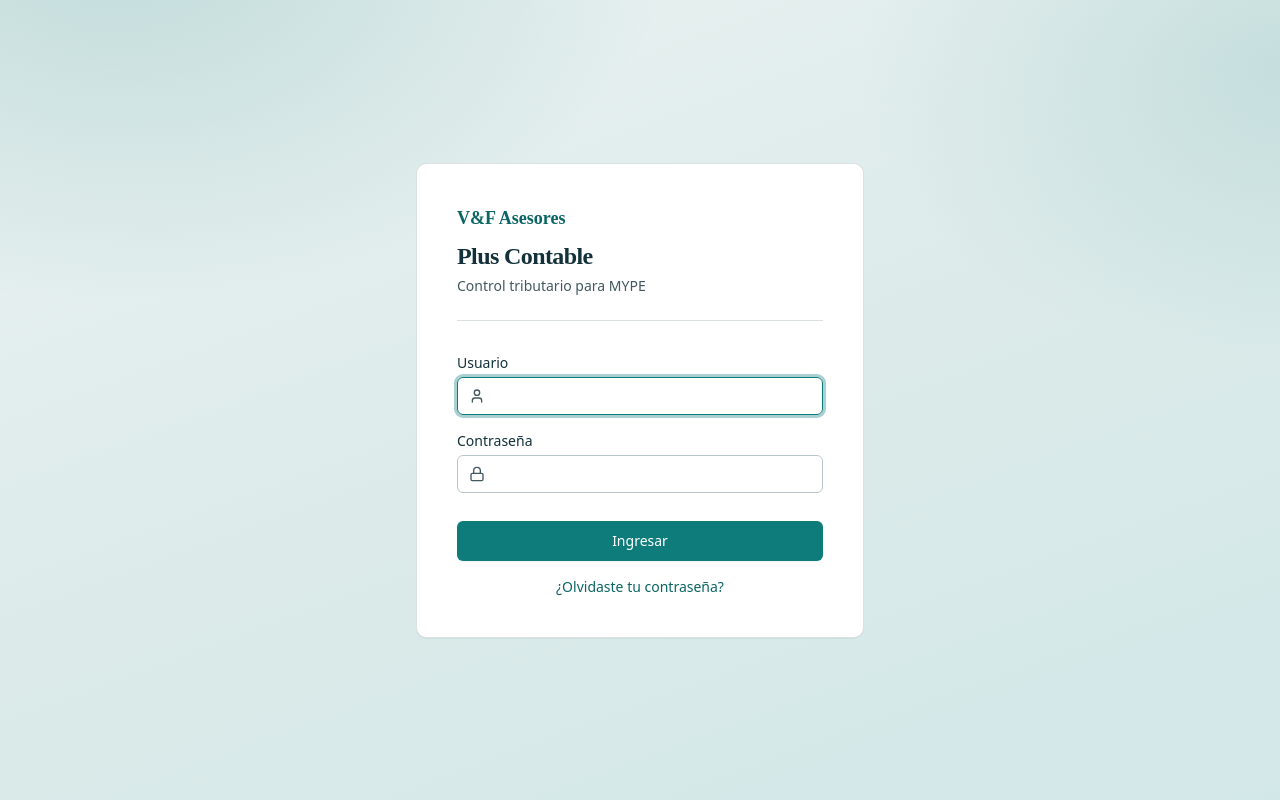
Test: HU-36: sesión y login › inicia sesión y permite entrar a una ruta protegida
This screenshot has width=1280, height=800.
Type "prueba" into the field labelled "Usuario" at (640, 396), box left=457, top=376, right=823, bottom=414
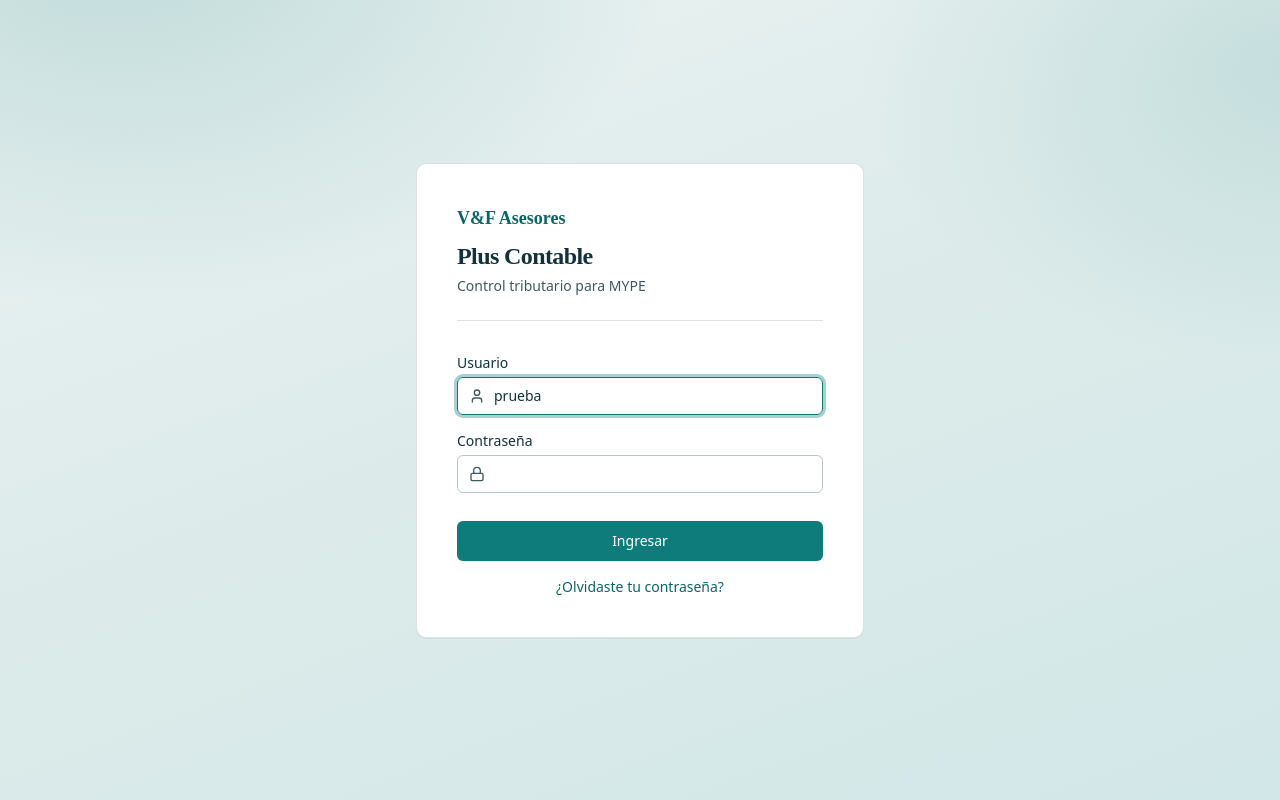
Type "clave-de-prueba" into the password field labelled "Contraseña" at (640, 474), box left=457, top=454, right=823, bottom=492
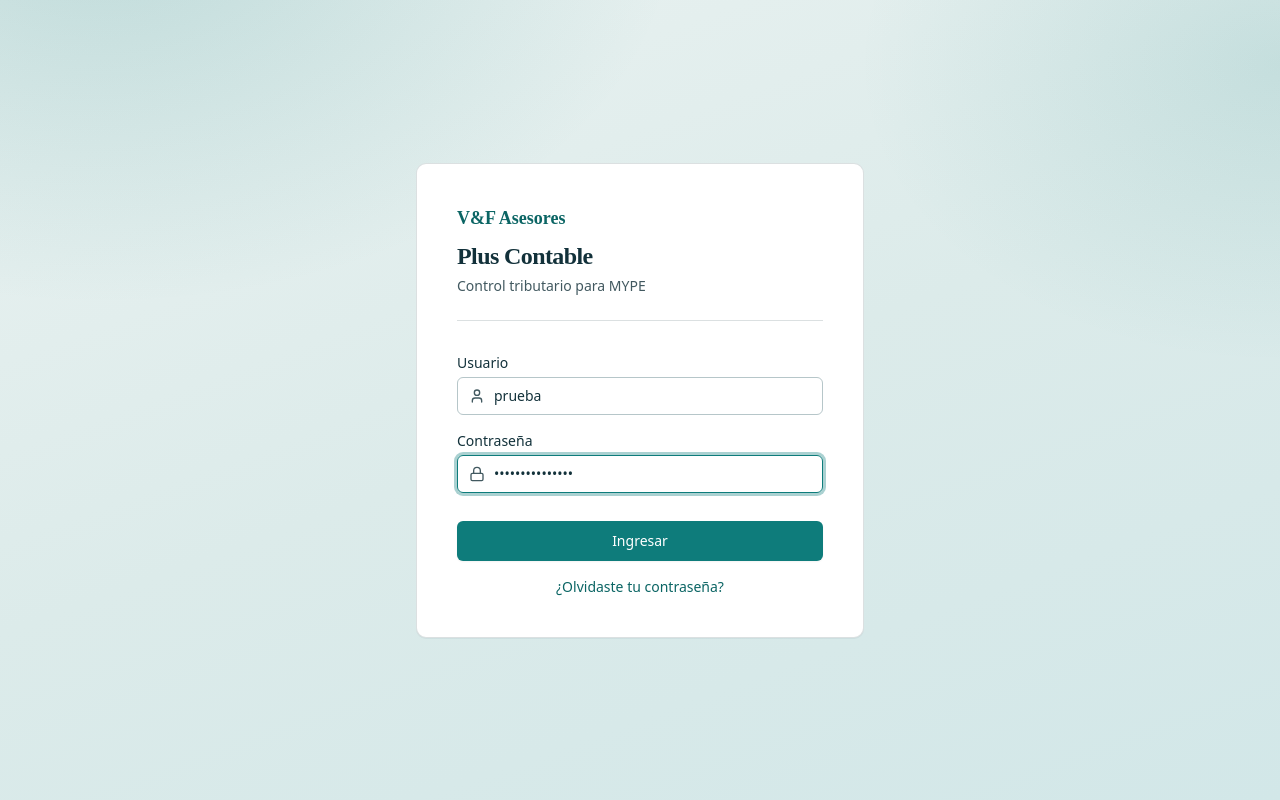
Click the button "Ingresar" at (640, 540), box left=457, top=520, right=823, bottom=560
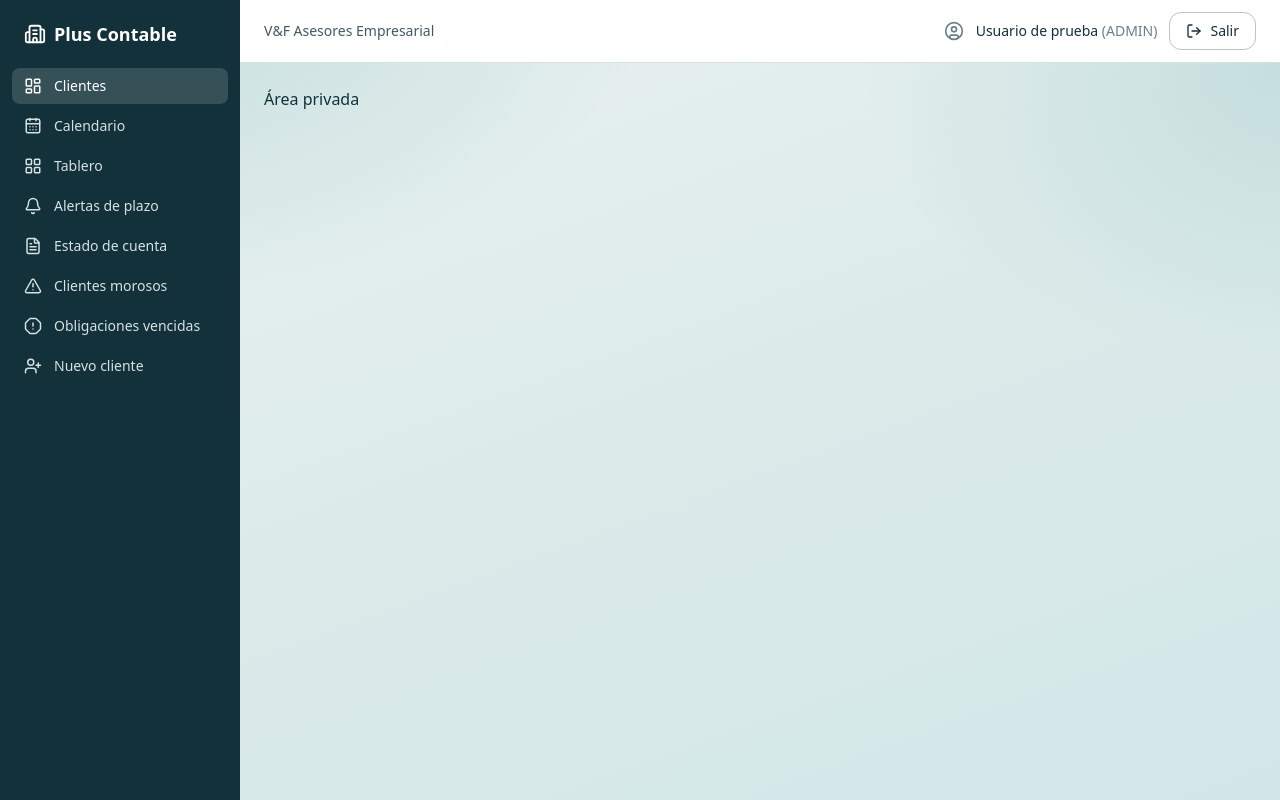
Now the text "Área privada" is shown, box left=264, top=88, right=359, bottom=110
